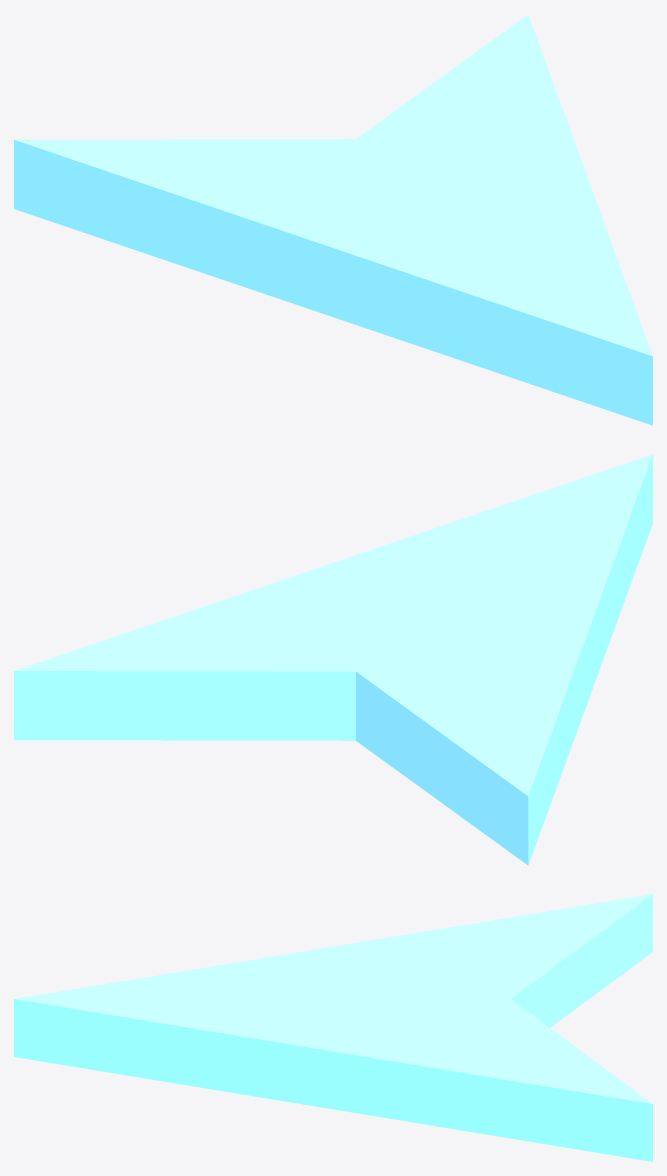
Rendered from uav-arrow.glb.
3 renders of one model, top to bottom at view 1: azimuth 30°, elevation 25°; view 2: azimuth 150°, elevation 25°; view 3: azimuth 270°, elevation 25°, orthographic. The views are drawn at different scales.
Visible parts, largest first — view 1: uav-arrow; view 2: uav-arrow; view 3: uav-arrow.
Boxes of the visible parts, x1,y1,x2,y2 form: uav-arrow: (14,14,652,425); uav-arrow: (14,454,652,865); uav-arrow: (14,894,652,1161).
Bounding box in the file's own units: 0.7 × 0.09 × 0.9.
